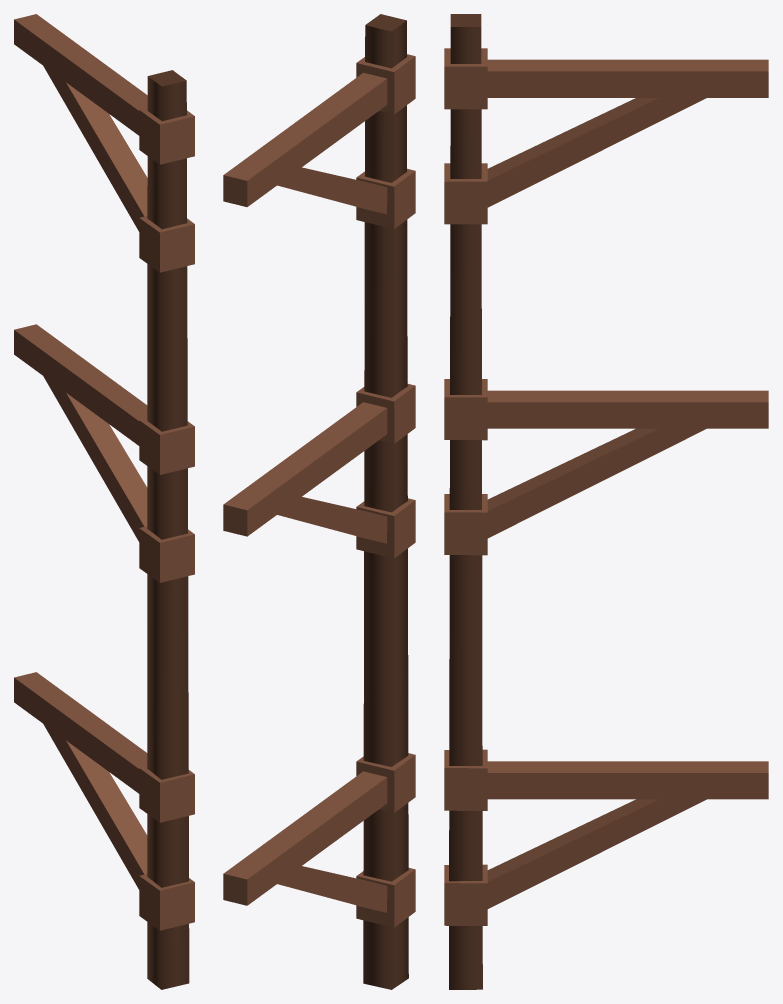
The model's file is SignHolder_5_C.fbx.
3 renders of one model, left to right at view 1: azimuth 30°, elevation 25°; view 2: azimuth 150°, elevation 25°; view 3: azimuth 270°, elevation 25°, orthographic. The views are drawn at different scales.
Visible parts, largest first — view 1: SignHolder_5_C; view 2: SignHolder_5_C; view 3: SignHolder_5_C.
Part boxes in pixels (left/top/right/bottom): SignHolder_5_C: left=14, top=14, right=194, bottom=989; SignHolder_5_C: left=223, top=14, right=415, bottom=989; SignHolder_5_C: left=444, top=14, right=768, bottom=989.
Bounding box in the file's own units: 8.95 × 217 × 66.26.
